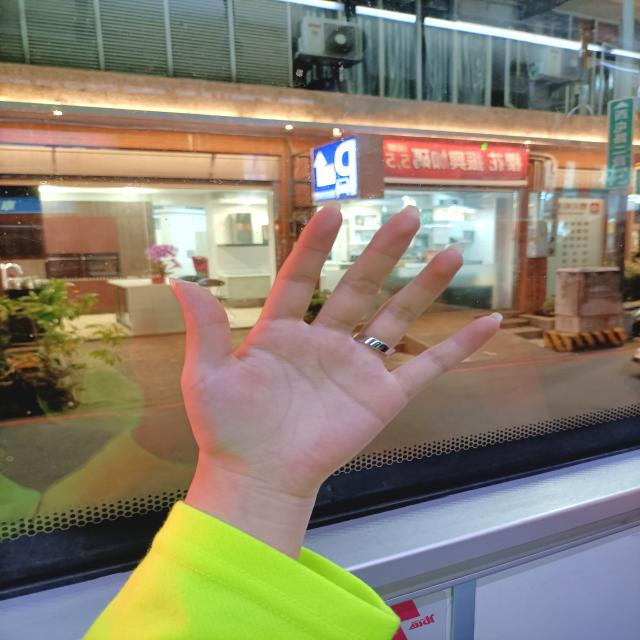no_glove: (150, 184, 511, 524)
